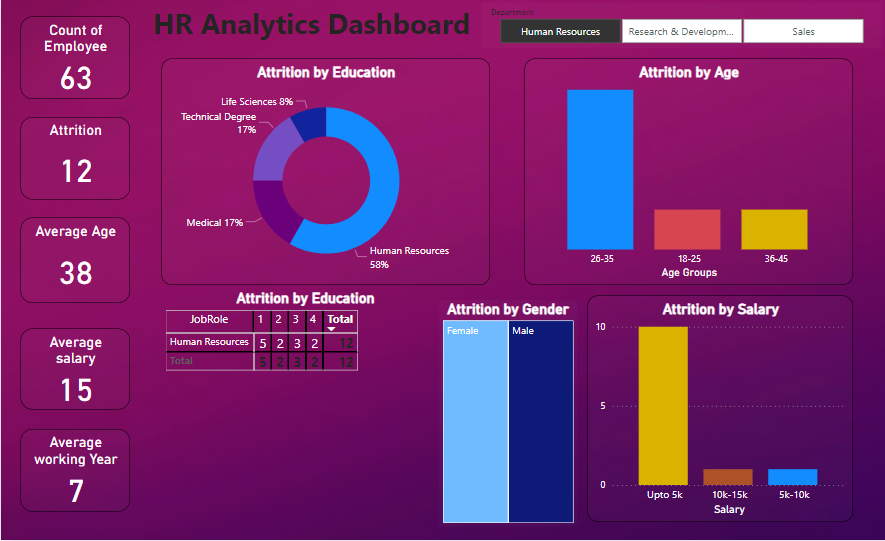

This screenshot's page, from the dashboard's own definition file:
{"tool":"powerbi","page":{"name":"Page 1","canvas":[1280,720],"ordinal":0},"visuals":[{"type":"textbox","box":[152,0,524,64],"z":0},{"type":"card","title":"Average Age","fields":{"Values":["Avg(HR_Analytics (1).Age)"]},"box":[26,290,146,114],"z":1000},{"type":"card","title":"Average salary","fields":{"Values":["Avg(HR_Analytics (1).PercentSalaryHike)"]},"box":[26,438,146,108],"z":2000},{"type":"card","title":"Attrition","fields":{"Values":["CountNonNull(HR_Analytics (1).AttritionCount)"]},"box":[26,156,146,110],"z":3000},{"type":"card","title":"Count of Employee","fields":{"Values":["CountNonNull(HR_Analytics (1).EmpID)"]},"box":[26,22,146,110],"z":4000},{"type":"card","title":"Average working Year","fields":{"Values":["Avg(HR_Analytics (1).YearsAtCompany)"]},"box":[26,572,146,110],"z":5000},{"type":"donutChart","title":"Attrition by Education","fields":{"Category":["HR_Analytics (1).EducationField"],"Y":["CountNonNull(HR_Analytics (1).AttritionCount)"]},"box":[214,78,438,302],"z":6000},{"type":"columnChart","title":"Attrition by Salary","fields":{"Category":["HR_Analytics (1).SalarySlab"],"Y":["CountNonNull(HR_Analytics (1).AttritionCount)"]},"box":[782,394,354,302],"z":7000},{"type":"pivotTable","title":"Attrition by Education","fields":{"Values":["CountNonNull(HR_Analytics (1).AttritionCount)"],"Rows":["HR_Analytics (1).JobRole"],"Columns":["HR_Analytics (1).JobSatisfaction"]},"box":[214,386,384,326],"z":8000},{"type":"columnChart","title":"Attrition by Age","fields":{"Category":["HR_Analytics (1).AgeGroup"],"Y":["CountNonNull(HR_Analytics (1).AttritionCount)"]},"box":[698,78,438,302],"z":9000},{"type":"treemap","title":"Attrition by Gender","fields":{"Group":["HR_Analytics (1).Gender"],"Values":["CountNonNull(HR_Analytics (1).AttritionCount)"]},"box":[584,400,184,302],"z":10000},{"type":"slicer","fields":{"Values":["HR_Analytics (1).Department"]},"box":[640,4,534,60],"z":10001}]}

Visuals, with their boxes on the page's 1280x720 design canvas (x1, y1, x2, y2). These are canvas units, not pixel positions in the 885x541 screenshot, which may show the page scaled, cropped or inside an application window:
textbox: BBox(152, 0, 676, 64)
"Average Age" card: BBox(26, 290, 172, 404)
"Average salary" card: BBox(26, 438, 172, 546)
"Attrition" card: BBox(26, 156, 172, 266)
"Count of Employee" card: BBox(26, 22, 172, 132)
"Average working Year" card: BBox(26, 572, 172, 682)
"Attrition by Education" donutChart: BBox(214, 78, 652, 380)
"Attrition by Salary" columnChart: BBox(782, 394, 1136, 696)
"Attrition by Education" pivotTable: BBox(214, 386, 598, 712)
"Attrition by Age" columnChart: BBox(698, 78, 1136, 380)
"Attrition by Gender" treemap: BBox(584, 400, 768, 702)
slicer - HR_Analytics (1).Department: BBox(640, 4, 1174, 64)
